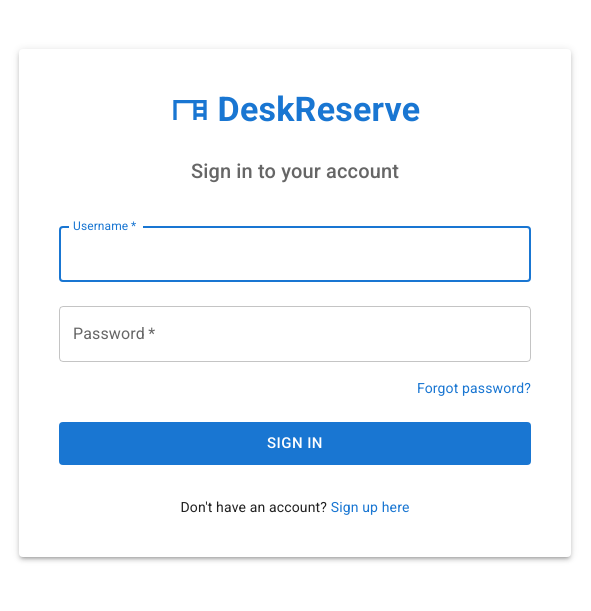
Test: Login Component › 5. clears previous errors when trying to log in again
Type "admin" into the field labelled "Username *" at (295, 254), box 59,226 -> 531,282
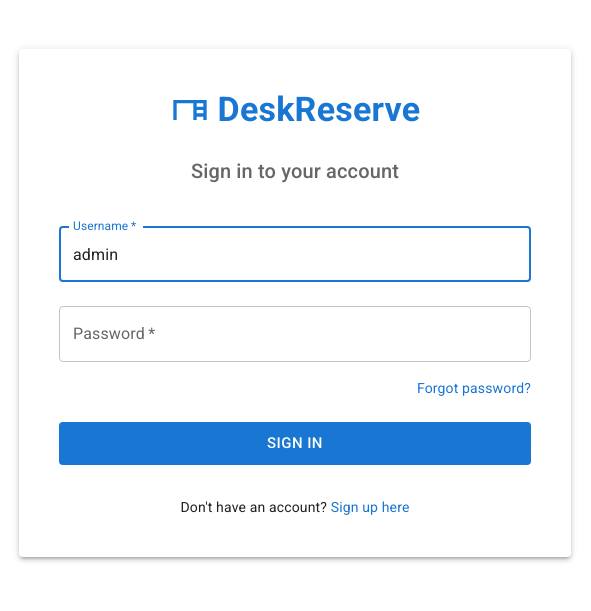
Type "wrongpass" into the password field labelled "Password *" at (295, 334), box 59,306 -> 531,362
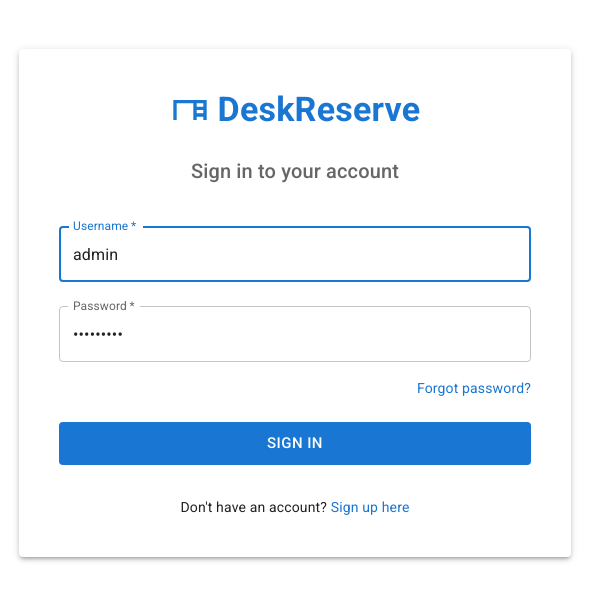
Click the button "Sign In" at (295, 444), box 59,422 -> 531,465
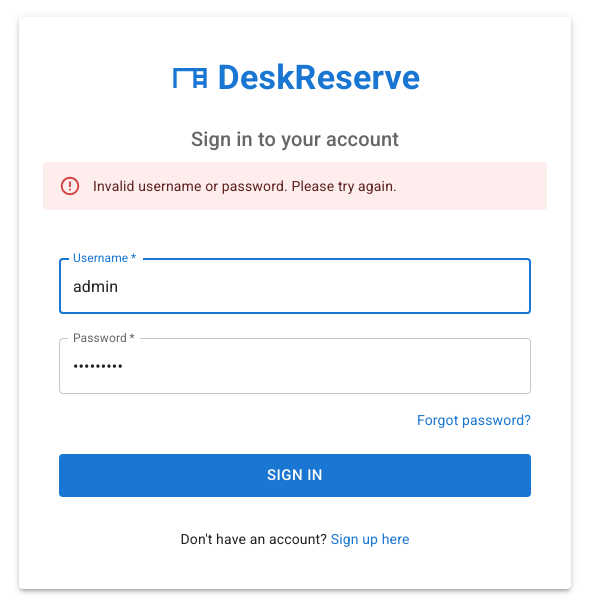
Check: the text "Invalid username or password. Please try again." is shown, box 93,178 -> 397,194
Click the button "Sign In" at (295, 476), box 59,454 -> 531,497
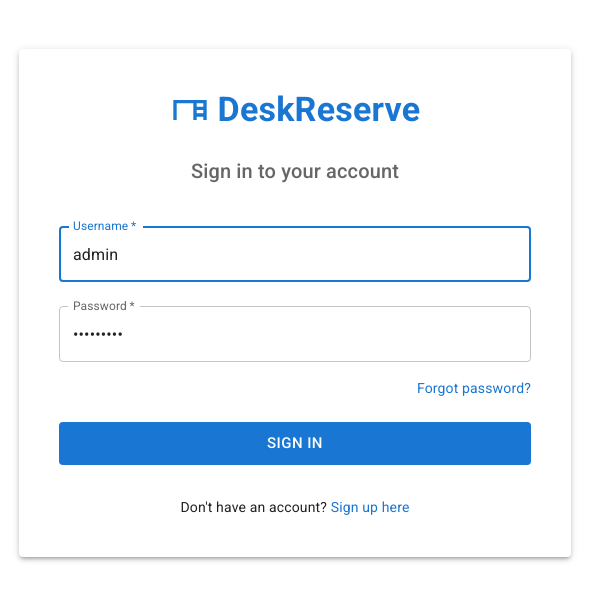
Check: the text "Invalid username or password. Please try again." is gone
